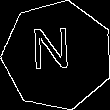N_S: (36, 30, 79, 81)
